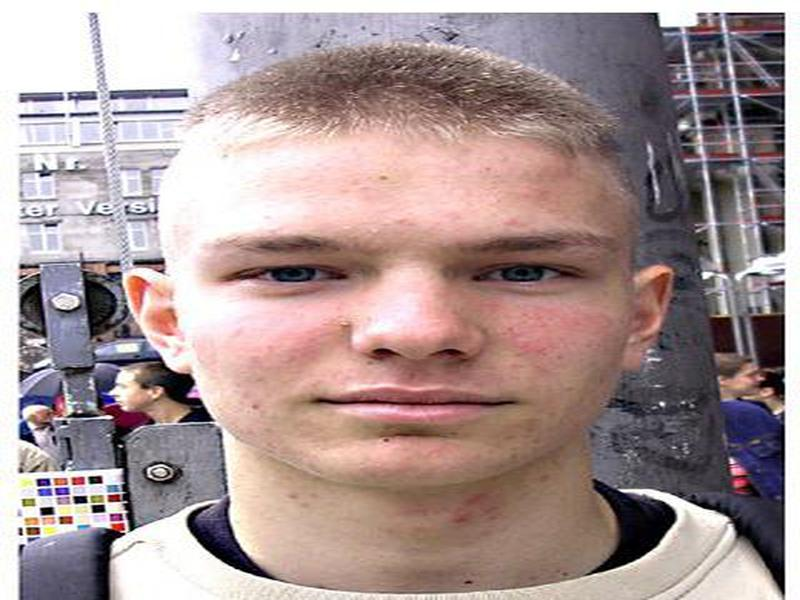without_mask: (161, 129, 631, 491)
